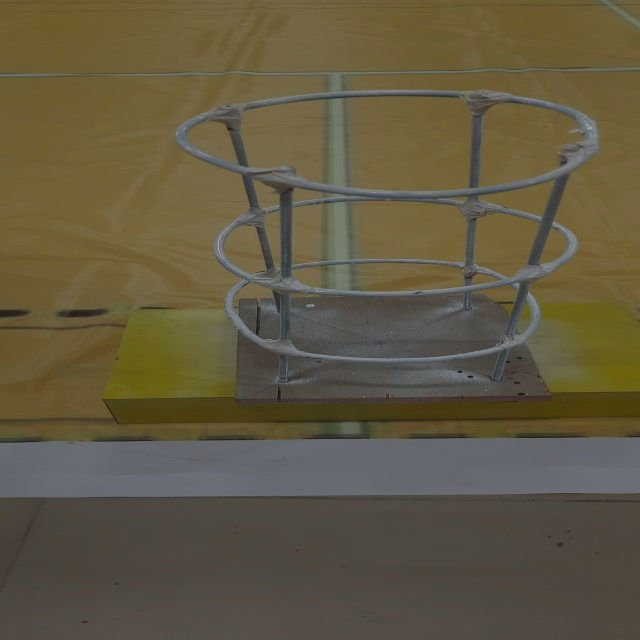silo: (142, 82, 602, 410)
